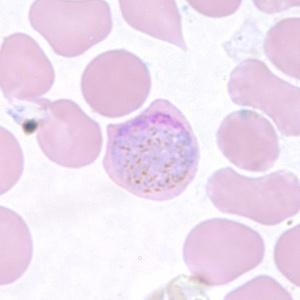Infected: (105, 99, 201, 203)
Uninfected: (203, 166, 300, 228), (229, 56, 300, 134), (183, 220, 265, 284), (28, 0, 112, 57), (37, 98, 103, 169), (82, 50, 151, 116), (217, 110, 281, 172), (119, 0, 189, 52), (2, 33, 55, 101)
